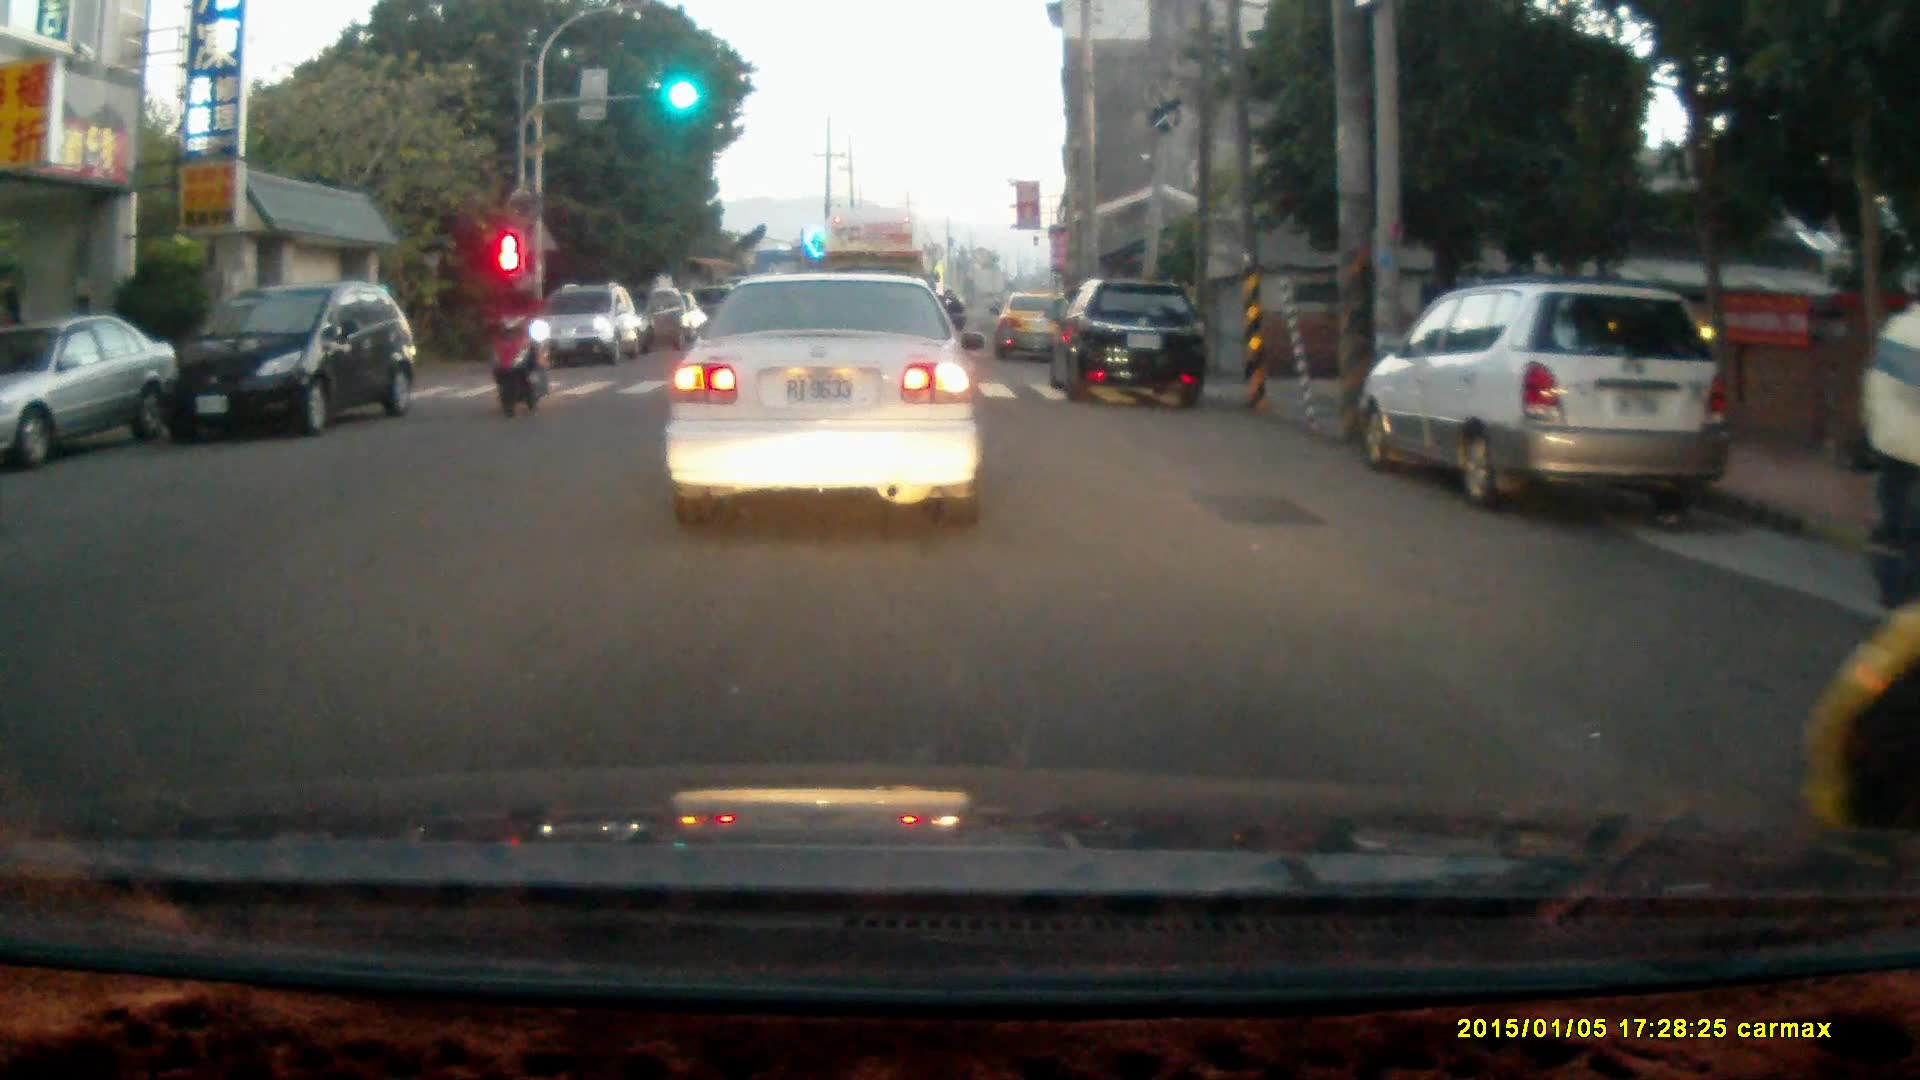pedestrian: (1855, 260, 1920, 620)
rider: (491, 267, 549, 421)
vehicle: (1364, 282, 1725, 508), (668, 270, 989, 524), (158, 284, 420, 447), (0, 315, 174, 461), (1047, 276, 1206, 404), (821, 205, 936, 365), (528, 285, 643, 368), (993, 292, 1082, 366)
